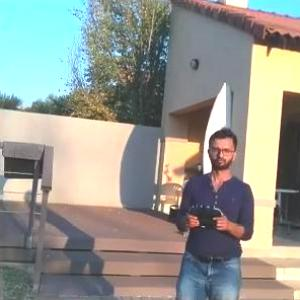follow: (166, 121, 256, 299)
